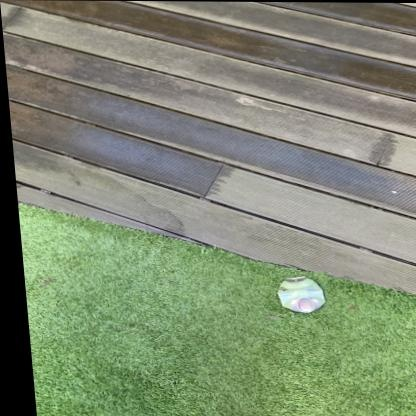trash: (278, 276, 324, 312)
